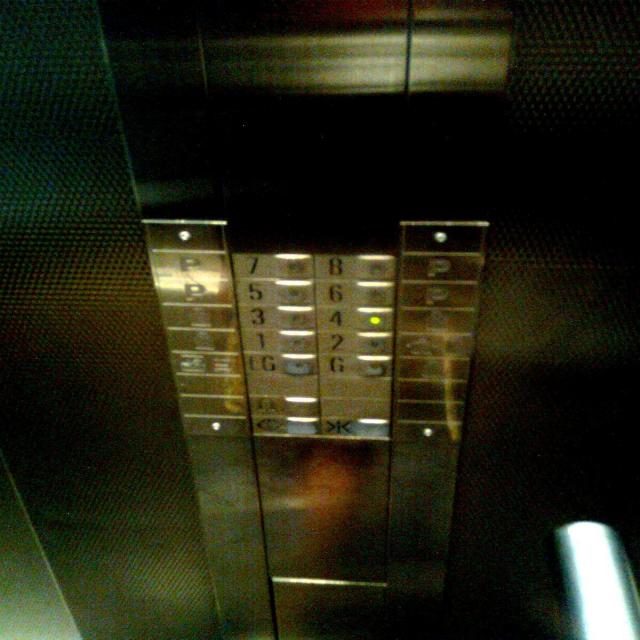1: (238, 326, 316, 356)
2: (314, 330, 396, 355)
3: (235, 302, 315, 331)
4: (313, 304, 397, 332)
5: (232, 276, 311, 306)
6: (310, 278, 396, 306)
7: (232, 253, 314, 279)
8: (311, 253, 397, 281)
G: (315, 353, 396, 379)
LG: (240, 350, 318, 381)
alarm: (246, 392, 320, 418)
close: (318, 413, 388, 439)
open: (248, 414, 318, 440)
